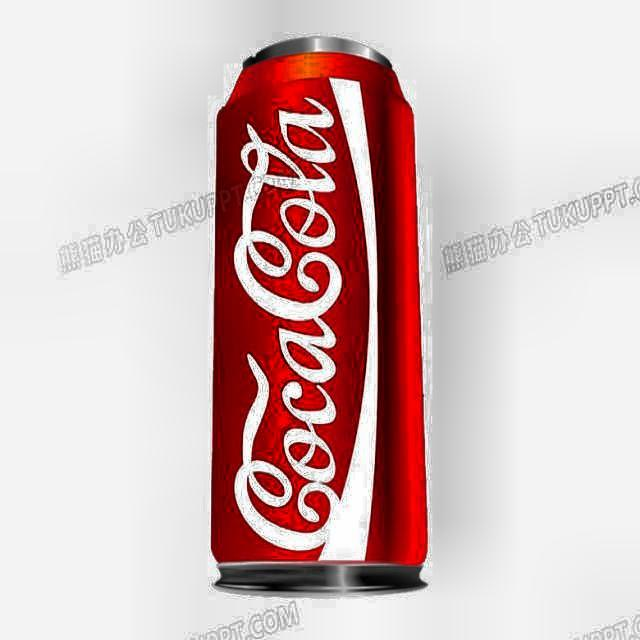can: (211, 29, 448, 597)
